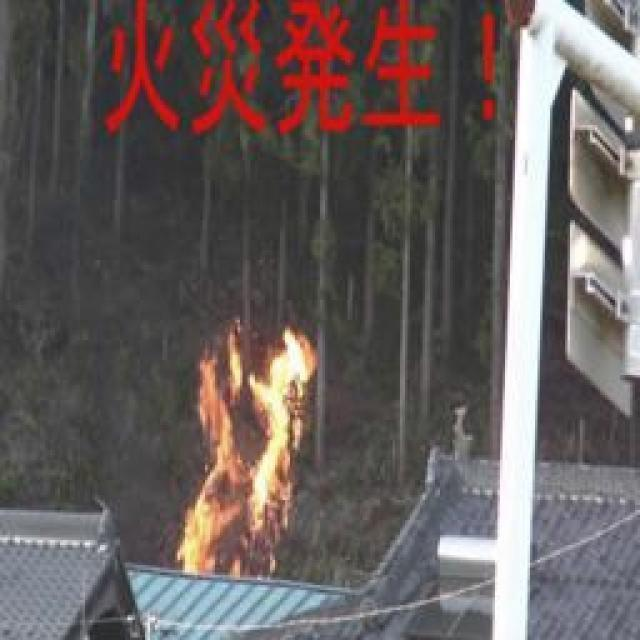Fire: (180, 329, 336, 581)
